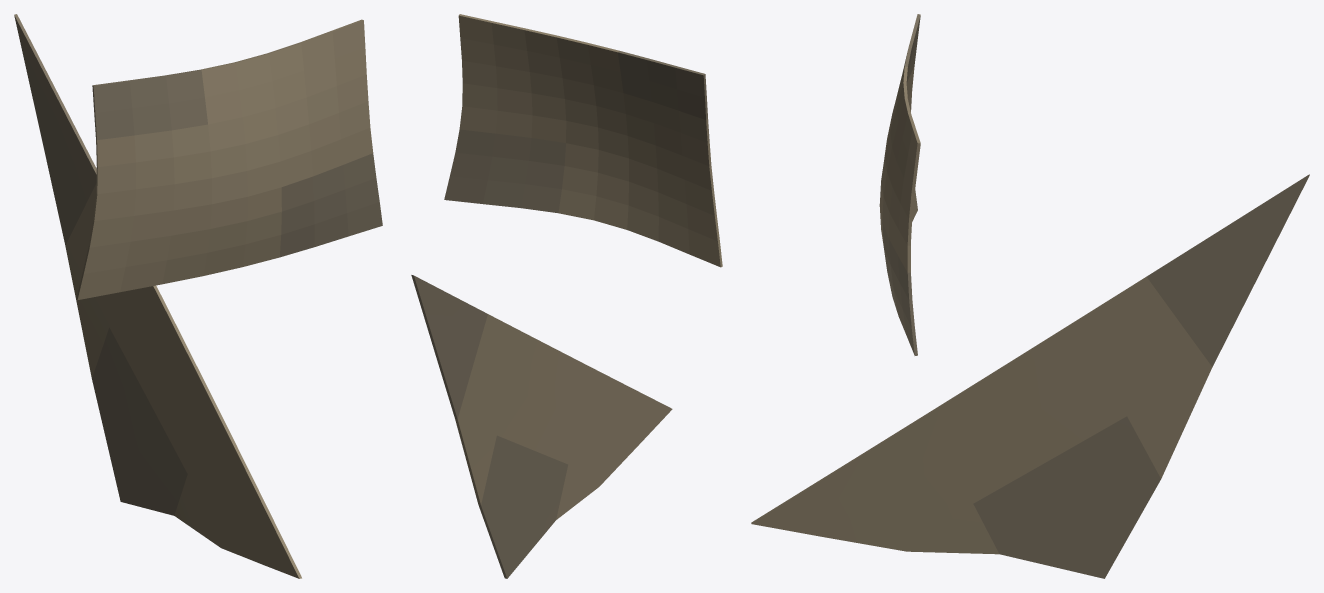
The model's file is LargeShip_2_Sails5.fbx.
The picture shows the model from 3 angles, left to right: view 1: azimuth 30°, elevation 25°; view 2: azimuth 150°, elevation 25°; view 3: azimuth 270°, elevation 25°; orthographic projection. The views are drawn at different scales.
Parts seen in each view (by area): view 1: LargeShip_2_Sails5; view 2: LargeShip_2_Sails5; view 3: LargeShip_2_Sails5.
Part boxes in pixels (x1,y1,x2,y2): LargeShip_2_Sails5: [14, 14, 382, 578]; LargeShip_2_Sails5: [411, 14, 722, 578]; LargeShip_2_Sails5: [751, 14, 1309, 578].
Bounding box in the file's own units: 732 × 1181 × 1184.
